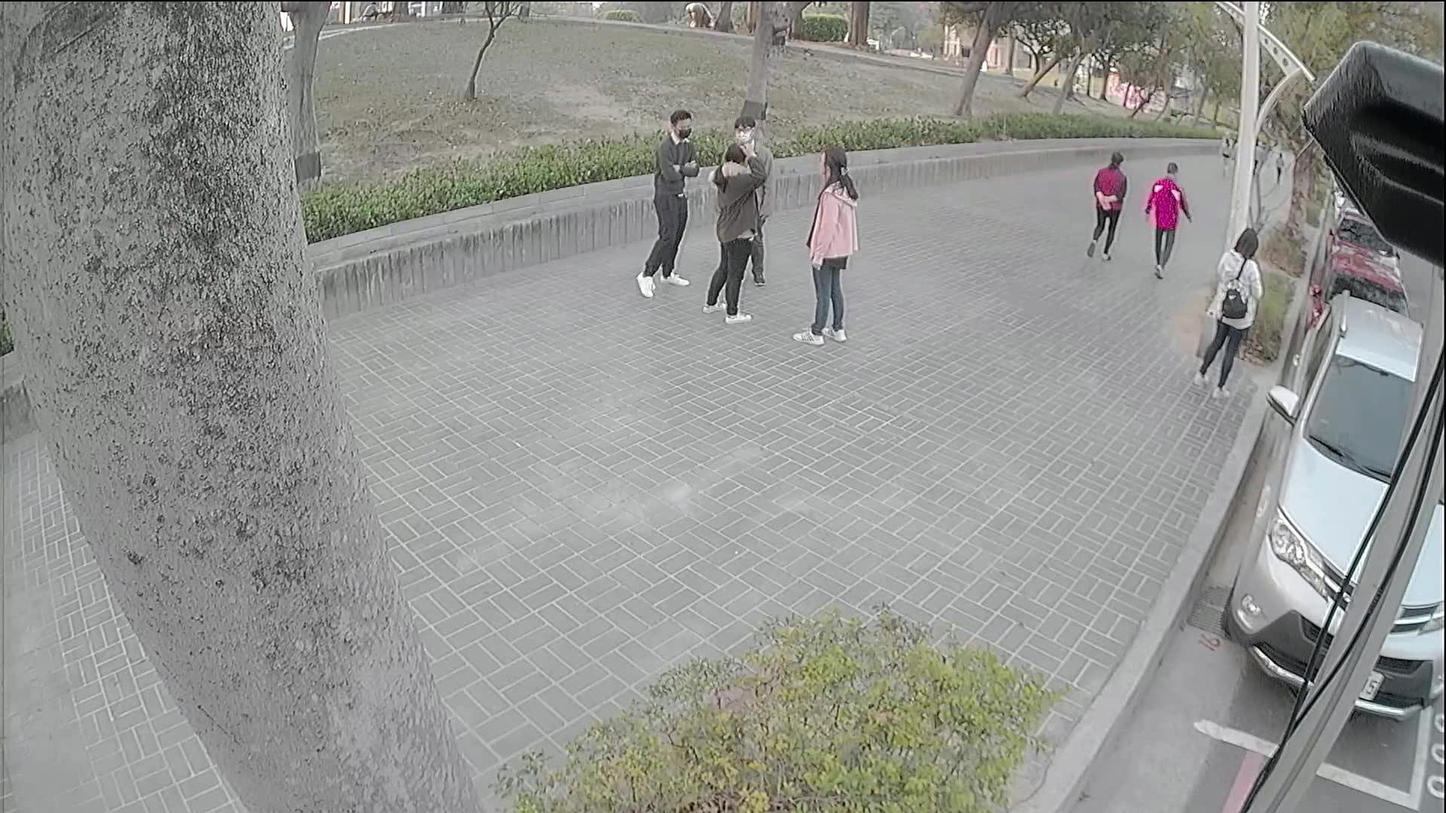person: (635, 111, 693, 294), (801, 147, 854, 345), (1196, 230, 1261, 390), (704, 135, 761, 315), (732, 115, 773, 263), (1142, 162, 1194, 276), (1086, 152, 1128, 260)
